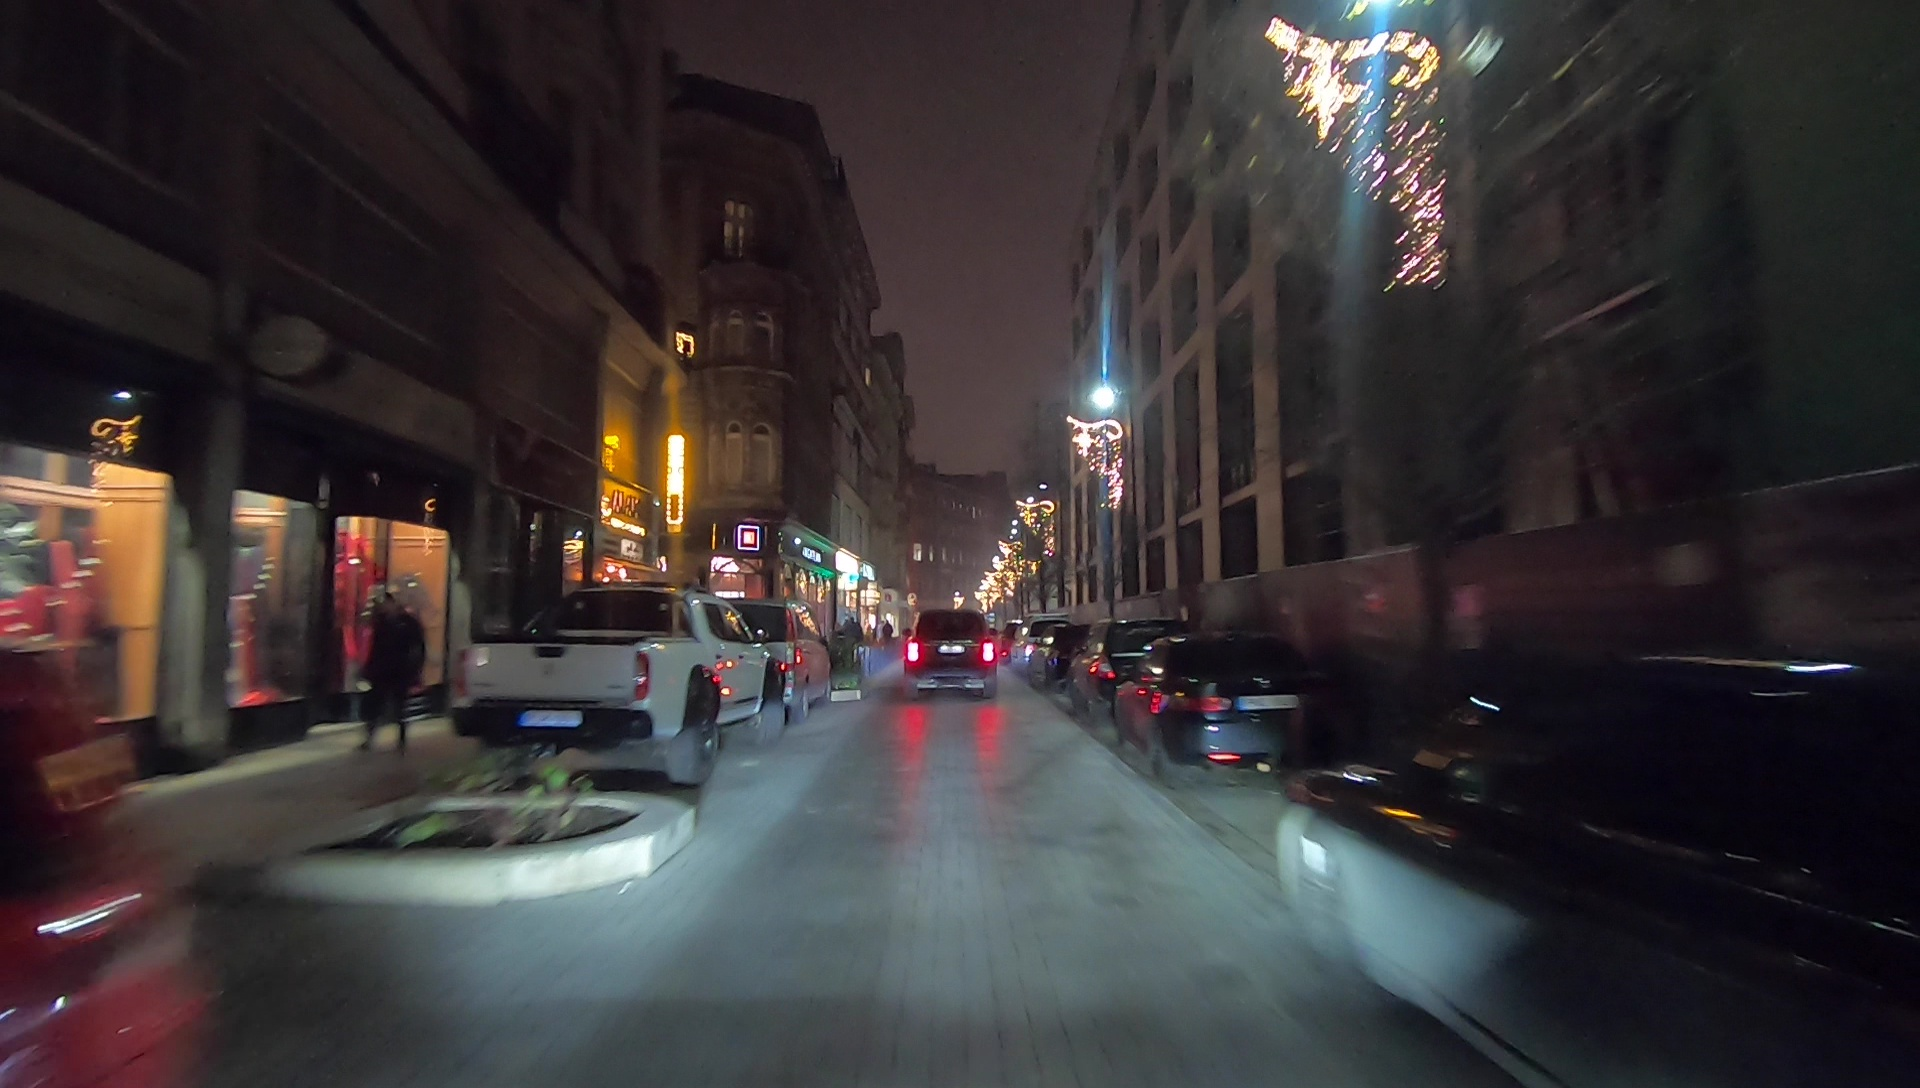person: (351, 593, 423, 761)
